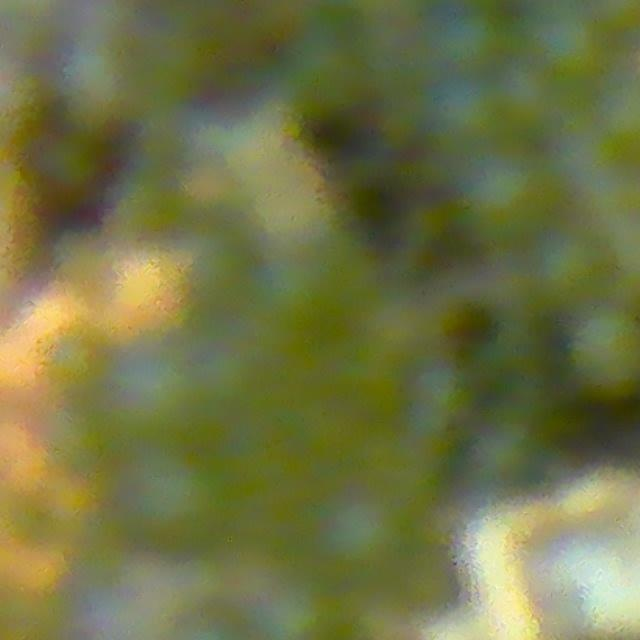SeaGrape: (121, 444, 226, 542), (105, 338, 205, 438), (316, 487, 418, 580), (457, 142, 551, 241), (561, 300, 640, 403), (523, 3, 608, 82), (256, 572, 346, 640), (422, 74, 501, 150), (532, 229, 602, 301), (436, 6, 509, 75)
